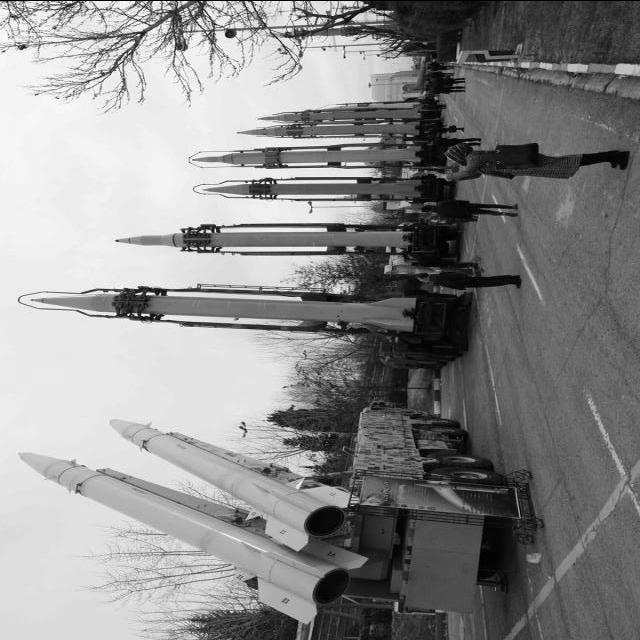Missile: (3, 439, 365, 632), (88, 400, 368, 559), (22, 292, 420, 330), (114, 224, 409, 252), (185, 148, 432, 173), (194, 180, 427, 201), (228, 122, 427, 139)
